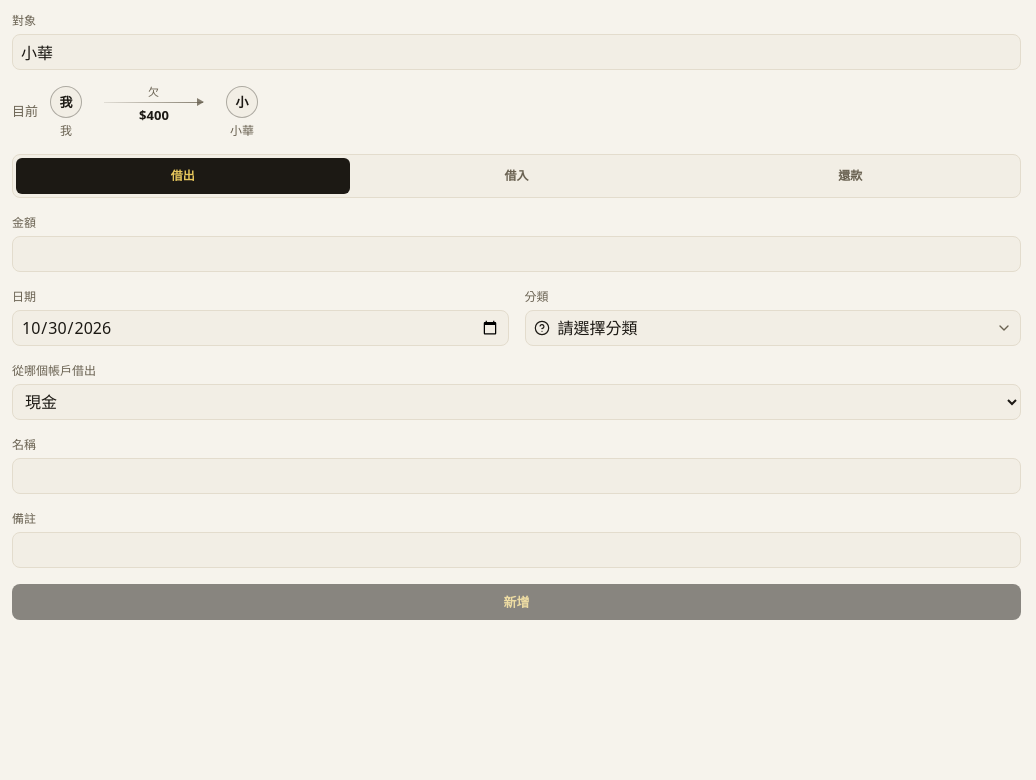
Test case: DebtEntryForm › uses an expense category when repaying a counterparty I owe
This screenshot has width=1036, height=780.
Click the button "還款".
click(850, 176)  # box top-left (683, 158), bottom-right (1017, 194)
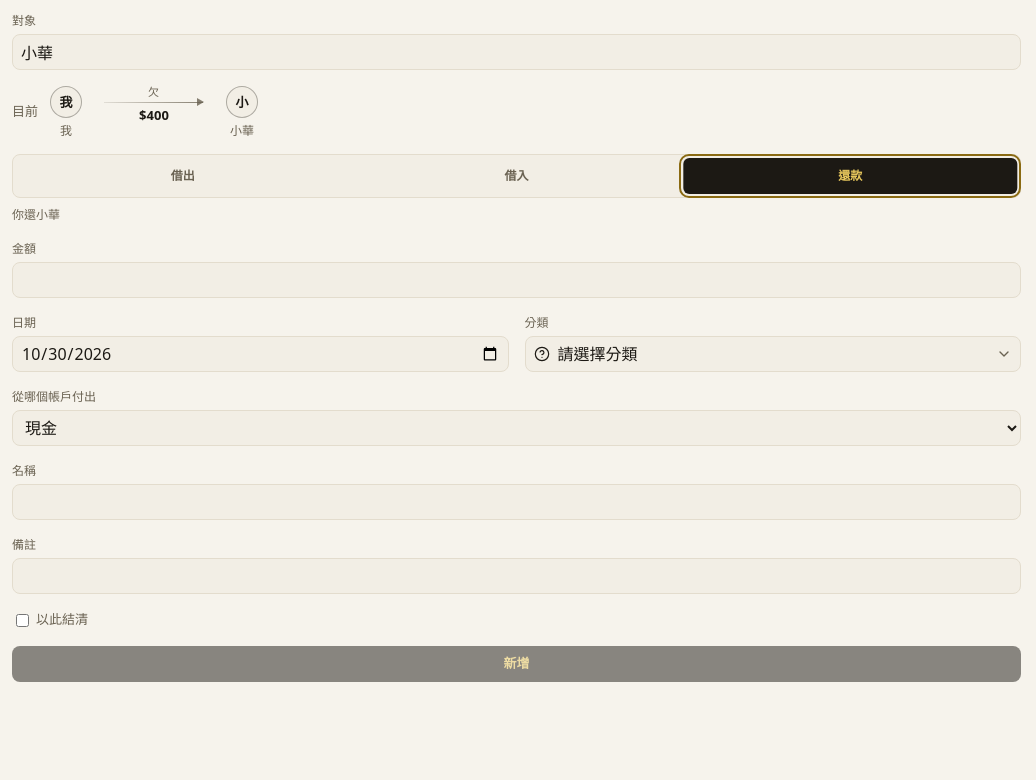
Click the dropdown labelled "分類".
click(598, 354)  # box top-left (524, 336), bottom-right (1021, 372)
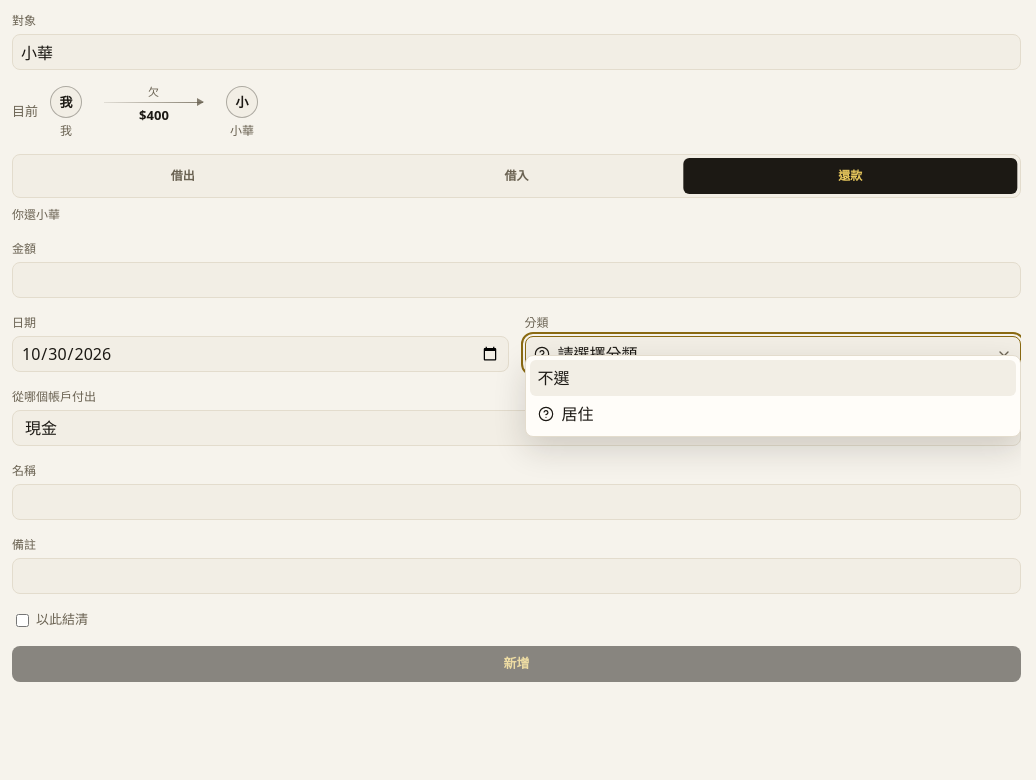
Now the option "居住" is shown, box top-left (530, 396), bottom-right (1016, 432)
